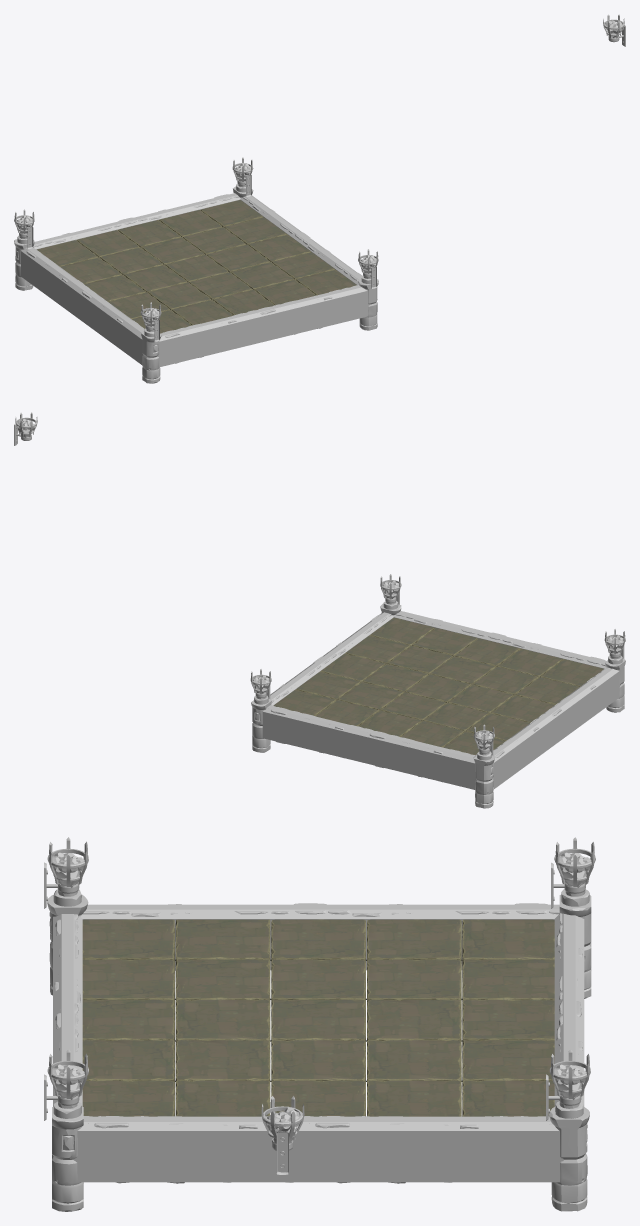
The model's file is Floor.fbx.
The picture shows the model from 3 angles, top to bottom: view 1: azimuth 30°, elevation 25°; view 2: azimuth 150°, elevation 25°; view 3: azimuth 270°, elevation 25°; orthographic projection. The views are drawn at different scales.
Parts seen in each view (by area): view 1: Invisible_Ramp__2_, Invisible_Ramp__3_, Invisible_Ramp__1_, Invisible_Ramp, top_1, top_4, top, top_6, top_11, top_17, top_18, top_14 (+20 smaller); view 2: Invisible_Ramp__1_, Invisible_Ramp__3_, Invisible_Ramp__2_, Invisible_Ramp, top_14, top_3, top_4, top_6, top_11, top_17, top, top_1 (+20 smaller); view 3: Invisible_Ramp, Invisible_Ramp__3_, Invisible_Ramp__1_, Invisible_Ramp__2_, top_3, top_11, top_18, top, top_14, top_17, top_4, top_1 (+22 smaller).
Part boxes in pixels (x1=…): Invisible_Ramp__2_: x1=157, y1=285, x2=369, y2=367; Invisible_Ramp__3_: x1=21, y1=247, x2=144, y2=364; Invisible_Ramp__1_: x1=34, y1=193, x2=240, y2=249; Invisible_Ramp: x1=240, y1=195, x2=361, y2=284; top_1: x1=141, y1=237, x2=204, y2=264; top_4: x1=100, y1=247, x2=163, y2=274; top: x1=165, y1=254, x2=228, y2=282; top_6: x1=124, y1=264, x2=187, y2=292; top_11: x1=148, y1=282, x2=211, y2=309; top_17: x1=207, y1=245, x2=270, y2=272; top_18: x1=230, y1=262, x2=294, y2=289; top_14: x1=183, y1=227, x2=246, y2=254; Invisible_Ramp__1_: x1=262, y1=705, x2=475, y2=789; Invisible_Ramp__3_: x1=493, y1=667, x2=620, y2=788; Invisible_Ramp__2_: x1=393, y1=611, x2=606, y2=668; Invisible_Ramp: x1=270, y1=612, x2=393, y2=705; top_14: x1=338, y1=681, x2=403, y2=710; top_3: x1=430, y1=656, x2=496, y2=684; top_4: x1=423, y1=702, x2=489, y2=731; top_6: x1=448, y1=684, x2=513, y2=713; top_11: x1=473, y1=666, x2=538, y2=695; top_17: x1=363, y1=663, x2=428, y2=692; top: x1=406, y1=674, x2=471, y2=702; top_1: x1=381, y1=692, x2=446, y2=721; Invisible_Ramp: x1=73, y1=1116, x2=563, y2=1182; Invisible_Ramp__3_: x1=80, y1=904, x2=559, y2=970; Invisible_Ramp__1_: x1=554, y1=913, x2=584, y2=1106; Invisible_Ramp__2_: x1=53, y1=914, x2=82, y2=1106; top_3: x1=175, y1=999, x2=270, y2=1042; top_11: x1=175, y1=959, x2=270, y2=1000; top_18: x1=175, y1=1039, x2=270, y2=1081; top: x1=271, y1=999, x2=365, y2=1041; top_14: x1=367, y1=1039, x2=461, y2=1081; top_17: x1=271, y1=1039, x2=365, y2=1082; top_4: x1=367, y1=959, x2=461, y2=1001; top_1: x1=367, y1=999, x2=461, y2=1041.
Bounding box in the file's own units: 10365 × 3636 × 4619.
